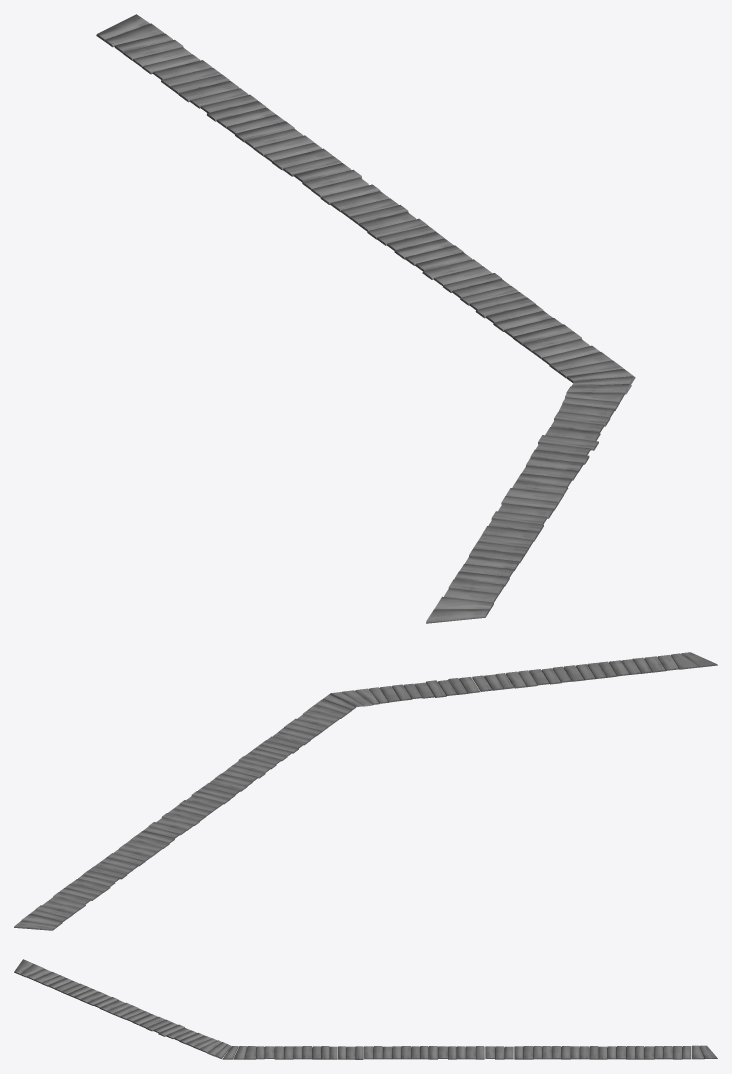
File: SM_ENV_LKNVLD_Ground_Right_trim_Wood_B.FBX
3 renders of one model, top to bottom at view 1: azimuth 30°, elevation 25°; view 2: azimuth 150°, elevation 25°; view 3: azimuth 270°, elevation 25°, orthographic. The views are drawn at different scales.
Parts seen in each view (by area): view 1: SM_ENV_LKNVLD_Ground_Right_trim_Wood_B; view 2: SM_ENV_LKNVLD_Ground_Right_trim_Wood_B; view 3: SM_ENV_LKNVLD_Ground_Right_trim_Wood_B.
Boxes of the visible parts, <box> form: SM_ENV_LKNVLD_Ground_Right_trim_Wood_B: <box>96,14,635,623</box>; SM_ENV_LKNVLD_Ground_Right_trim_Wood_B: <box>14,652,717,930</box>; SM_ENV_LKNVLD_Ground_Right_trim_Wood_B: <box>14,959,717,1059</box>.
Bounding box in the file's own units: 1000 × 6.95 × 2982.
